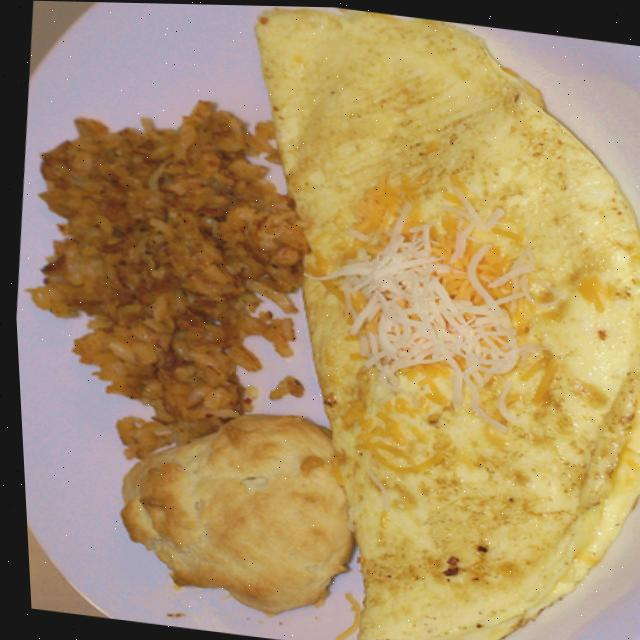鸡蛋料理: (157, 3, 640, 640)
